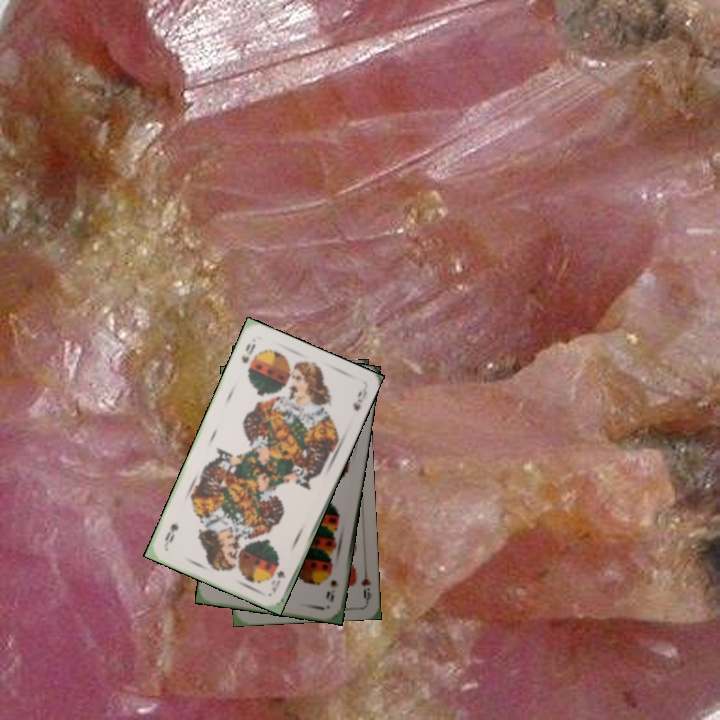H9: (357, 563, 374, 603)
S9: (322, 576, 341, 604)
SO: (237, 336, 258, 366), (267, 567, 288, 595)
